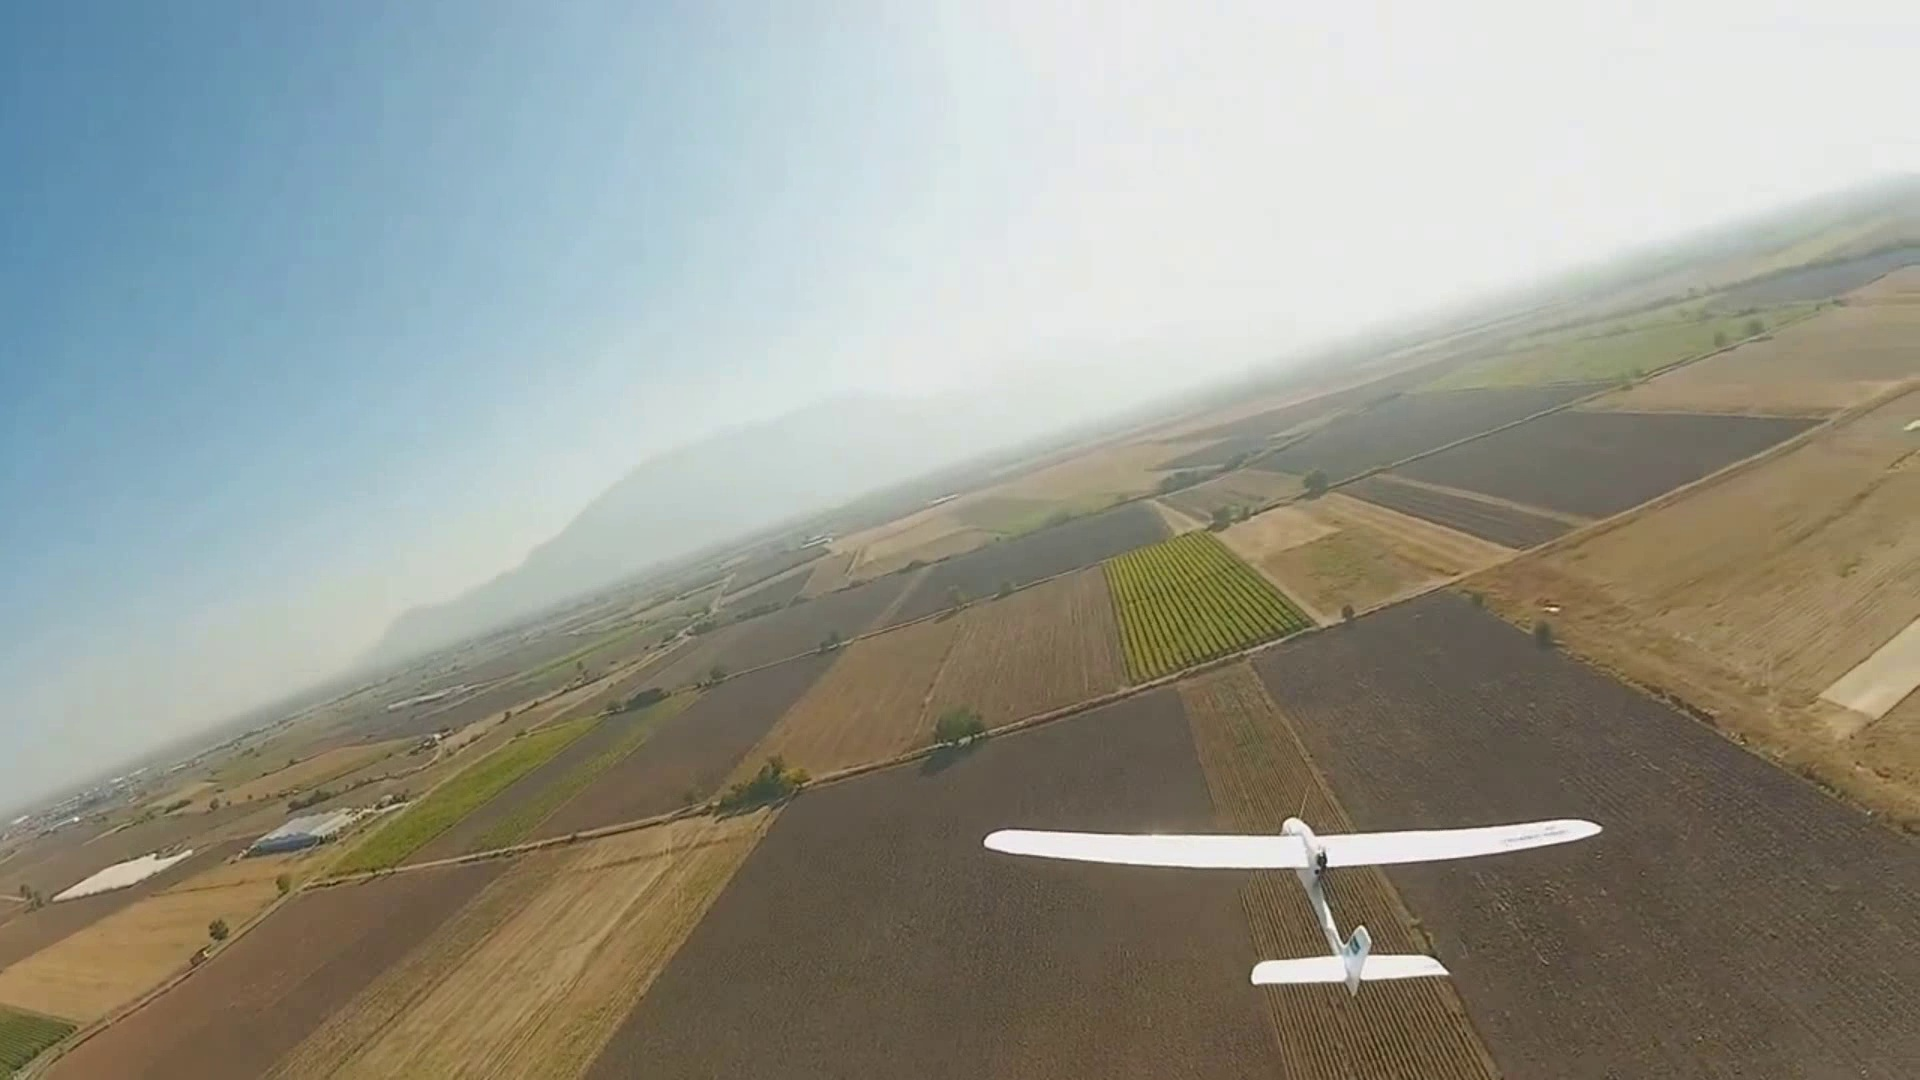airplane: (40, 156, 1917, 994)
